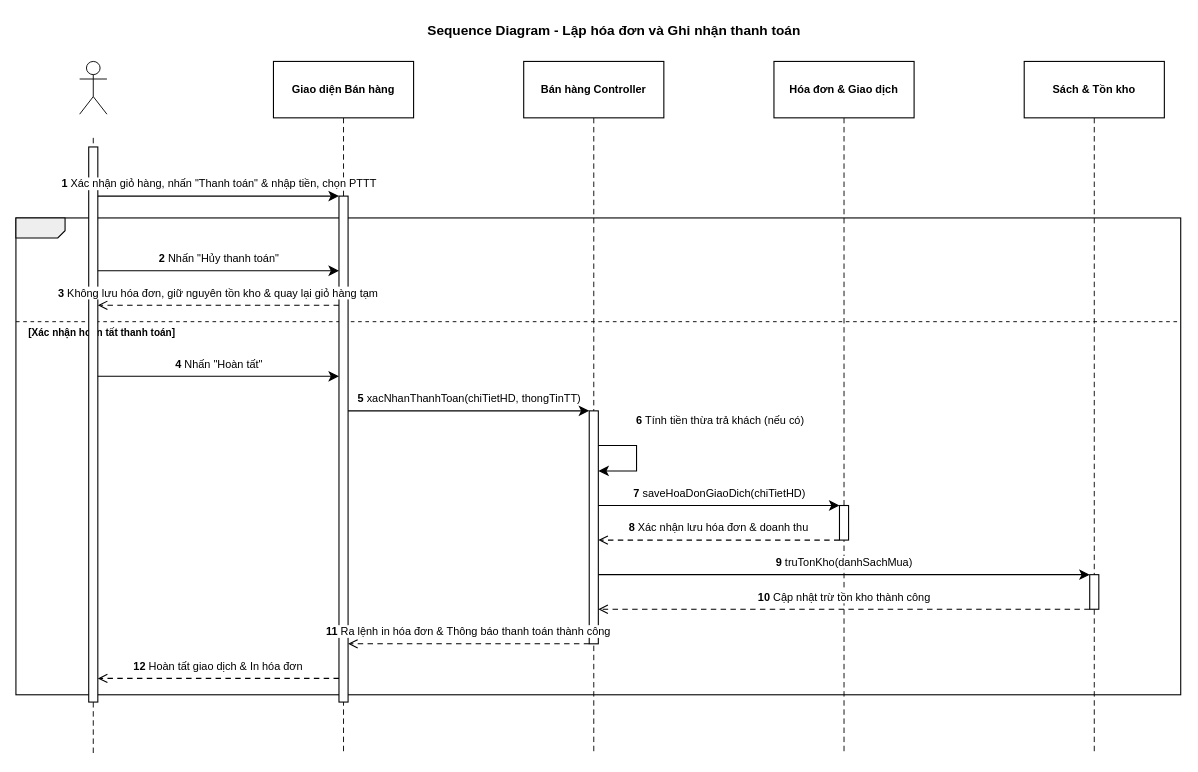
Image size: 1198x772. Some labels were removed from this diagram. Each missing label, with the centre of its shape:
"[Hủy thanh toán]" belongs at (x=129, y=227).
"alt" belongs at (x=40, y=227).
"Nhân viên bán hàng" belongs at (x=93, y=87).
